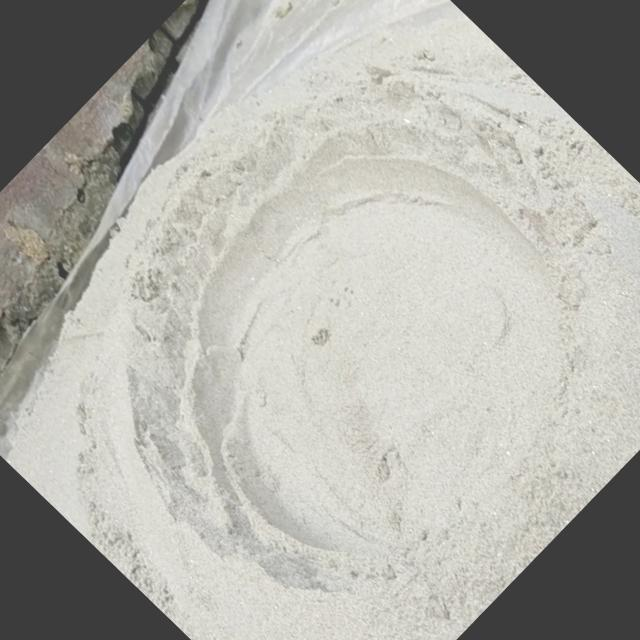C40: (163, 153, 562, 558)
